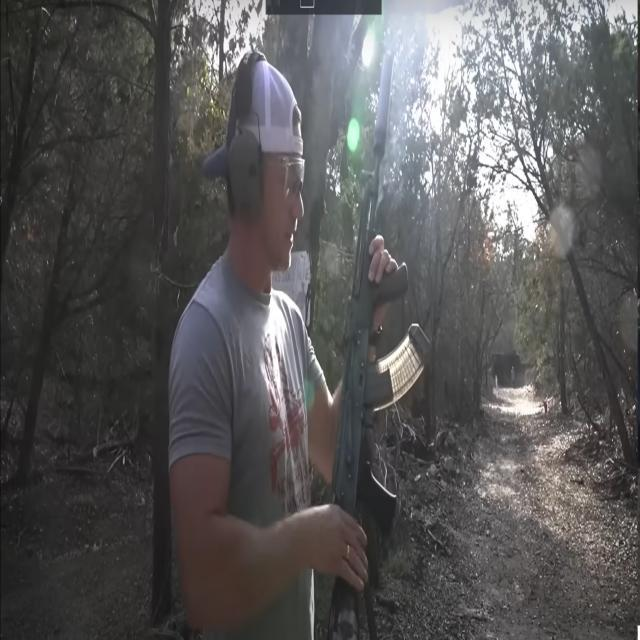ak: (312, 29, 434, 640)
